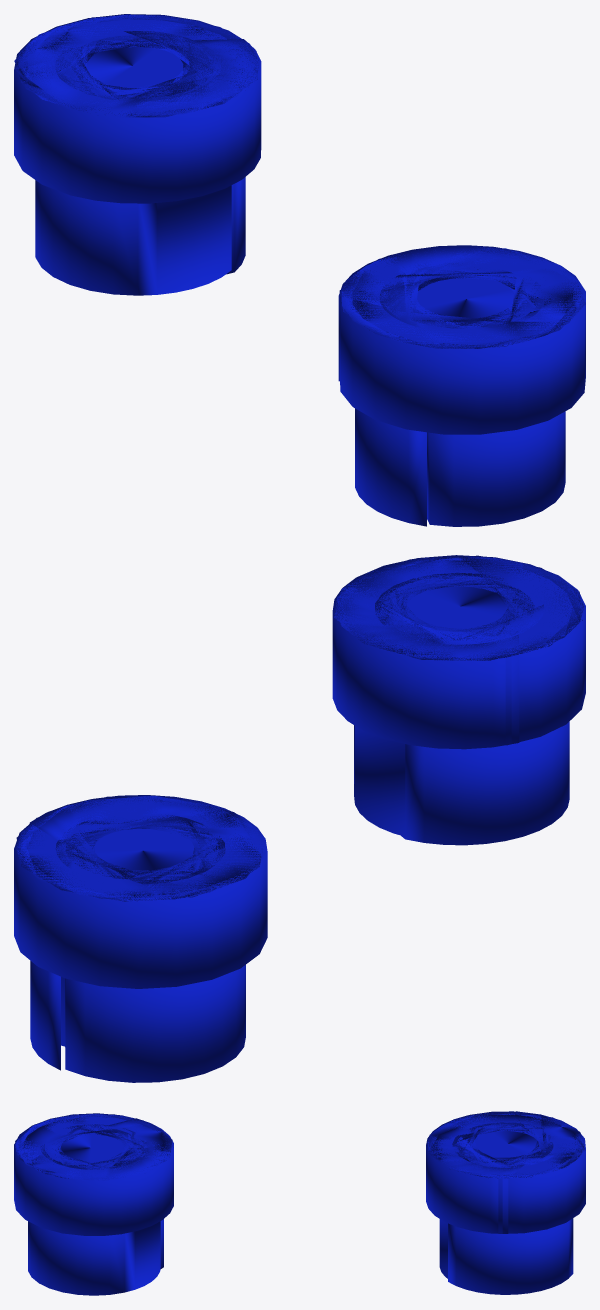
File: tuyeau_element_000002.obj
The picture shows the model from 3 angles, top to bottom: view 1: azimuth 30°, elevation 25°; view 2: azimuth 150°, elevation 25°; view 3: azimuth 270°, elevation 25°; orthographic projection. The views are drawn at different scales.
Parts seen in each view (by area): view 1: tuyeau2_Cube.017, tuyeau1_Cube.014; view 2: tuyeau2_Cube.017, tuyeau1_Cube.014; view 3: tuyeau1_Cube.014, tuyeau2_Cube.017.
Part boxes in pixels (x1,y1,x2,y2): tuyeau2_Cube.017: [338, 245, 585, 526]; tuyeau1_Cube.014: [14, 14, 261, 295]; tuyeau2_Cube.017: [332, 555, 585, 845]; tuyeau1_Cube.014: [14, 795, 267, 1082]; tuyeau1_Cube.014: [426, 1111, 585, 1294]; tuyeau2_Cube.017: [14, 1113, 173, 1295].
Size of the model in its own units: 3625 by 2917 by 12564.
